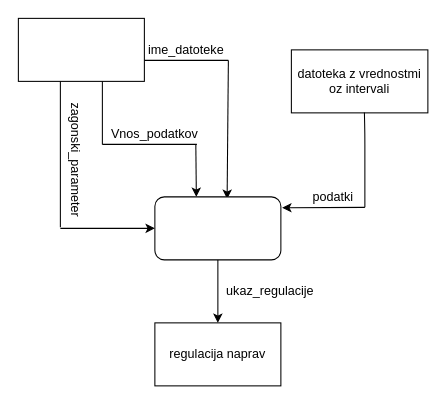
Some shapes in this 446 by 404 pixel diagram are drawn without their labels. Here are the shapes that lost their labels. From the top down, the box of each, then its label:
(17, 17, 144, 81): uporabnik
(154, 196, 281, 260): simulator
